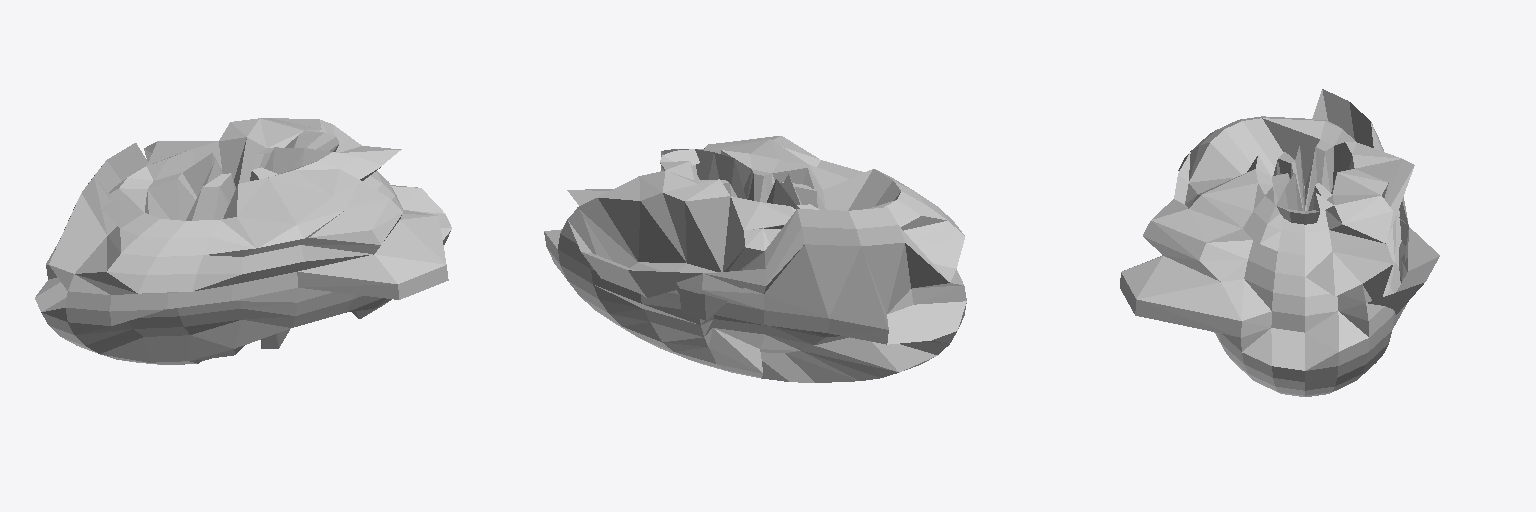
File: asteroid1.obj
3 renders of one model, left to right at view 1: azimuth 30°, elevation 25°; view 2: azimuth 150°, elevation 25°; view 3: azimuth 270°, elevation 25°, orthographic.
Visible parts, largest first — view 1: pSphere1; view 2: pSphere1; view 3: pSphere1.
Boxes of the visible parts, x1,y1,x2,y2 form: pSphere1: [35, 118, 451, 364]; pSphere1: [544, 136, 966, 382]; pSphere1: [1120, 89, 1439, 396].
Size of the model in its own units: 1.17 by 0.5459 by 0.8047.